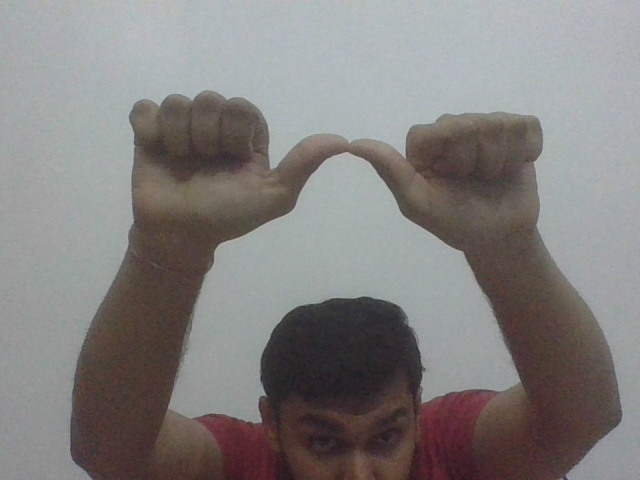A: (114, 88, 551, 245)
